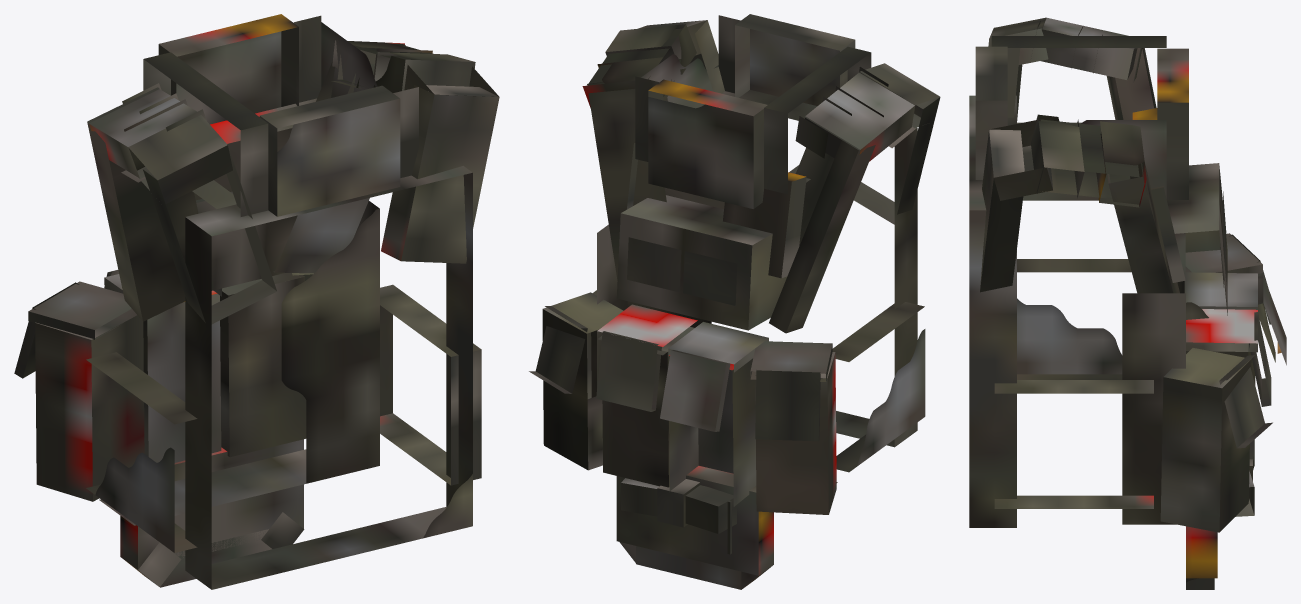
The model's file is spn.obj.
3 renders of one model, left to right at view 1: azimuth 30°, elevation 25°; view 2: azimuth 150°, elevation 25°; view 3: azimuth 270°, elevation 25°, orthographic. The views are drawn at different scales.
Visible parts, largest first — view 1: spn; view 2: spn; view 3: spn.
Part boxes in pixels (x1,y1,x2,y2): spn: [14, 14, 499, 589]; spn: [529, 14, 940, 589]; spn: [969, 17, 1286, 589].
Bounding box in the file's own units: 0.7121 × 1.07 × 0.6227.
